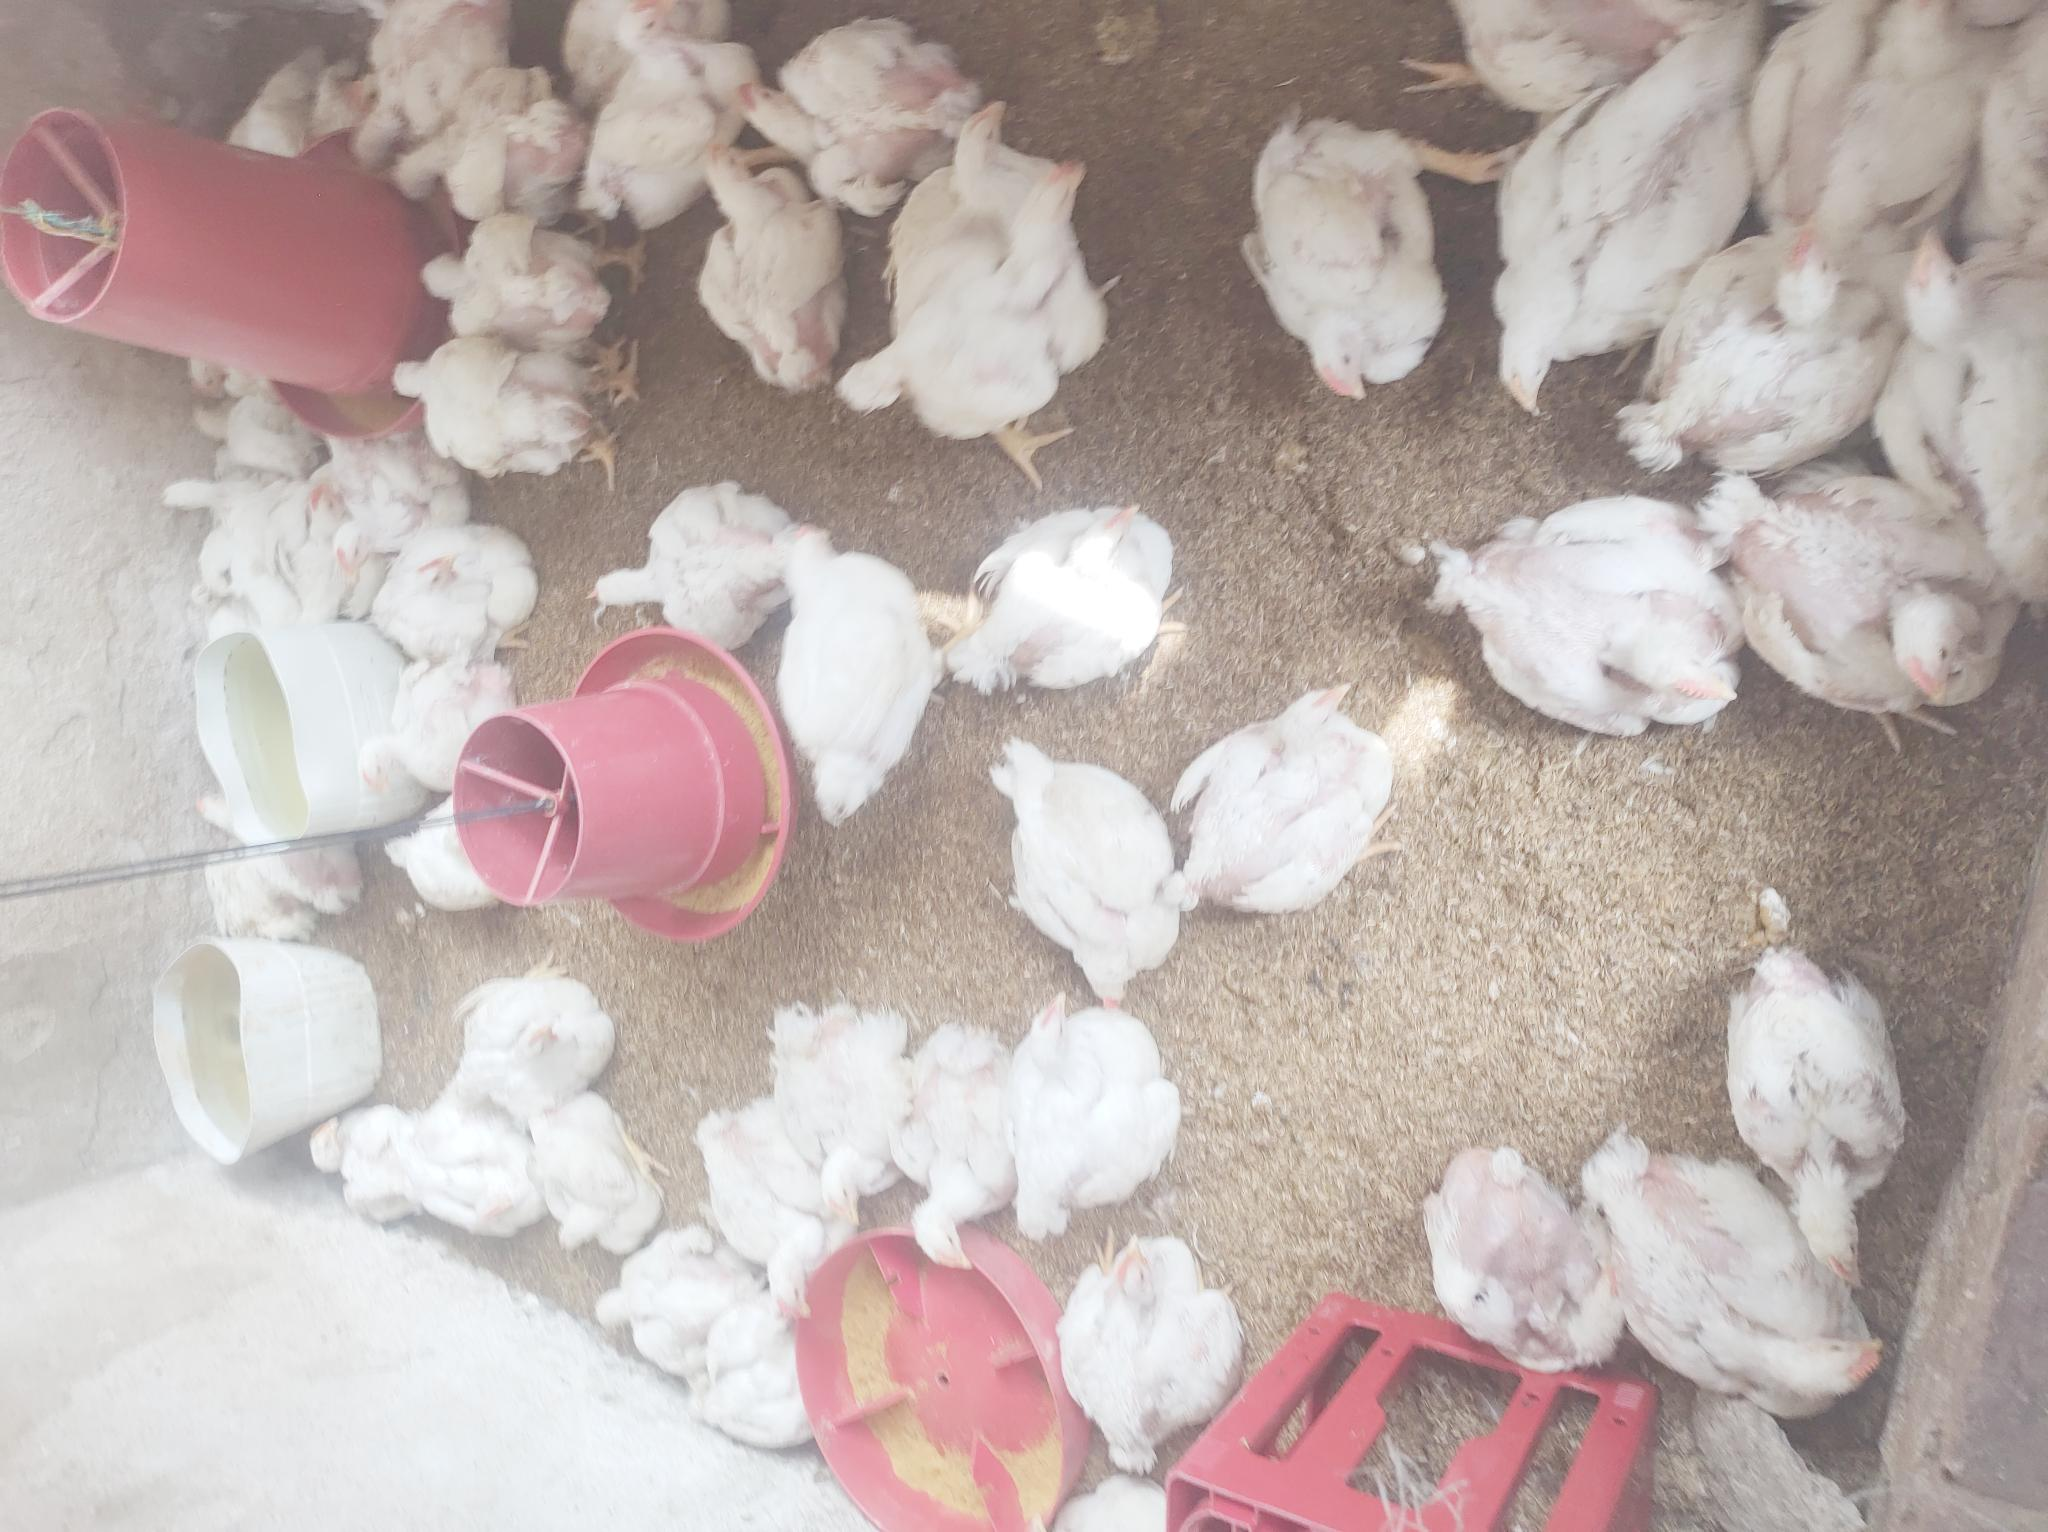Pollos: (1483, 40, 1758, 407), (1575, 1122, 1887, 1418), (1424, 489, 1734, 737), (1712, 451, 1987, 726), (1717, 904, 1924, 1266), (874, 167, 1128, 460), (1245, 100, 1470, 409), (1898, 188, 2048, 592), (1754, 0, 1988, 249), (1651, 209, 1886, 451), (1168, 665, 1393, 909), (772, 531, 948, 821), (1047, 1220, 1263, 1445), (1437, 1115, 1618, 1374), (735, 6, 980, 191), (985, 748, 1168, 988), (685, 134, 854, 393), (899, 1015, 1060, 1287), (1022, 978, 1192, 1223), (952, 491, 1162, 686), (779, 991, 927, 1236), (1446, 0, 1721, 130), (677, 1094, 833, 1320), (385, 343, 635, 475), (581, 39, 758, 224), (587, 480, 796, 636), (409, 212, 645, 343), (692, 1310, 862, 1485), (380, 480, 547, 652), (330, 653, 529, 797), (182, 784, 360, 943), (349, 10, 521, 172), (528, 1044, 677, 1229), (896, 85, 1065, 248), (436, 957, 618, 1099), (388, 84, 576, 217), (402, 1078, 541, 1254), (584, 1223, 738, 1357), (373, 797, 515, 916), (222, 48, 335, 185), (288, 1089, 396, 1223), (524, 0, 729, 68), (145, 463, 296, 533), (174, 401, 319, 468), (187, 558, 270, 660), (341, 438, 401, 578), (304, 488, 393, 547), (196, 356, 282, 389)
